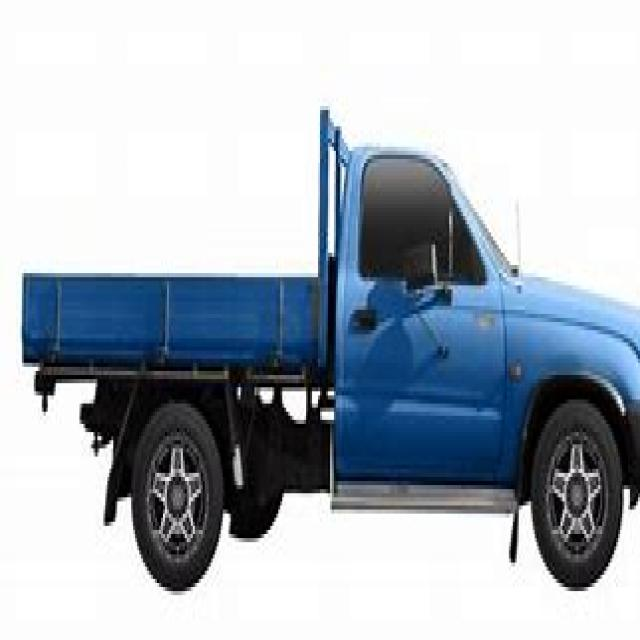light_vehicle: (16, 78, 638, 612)
